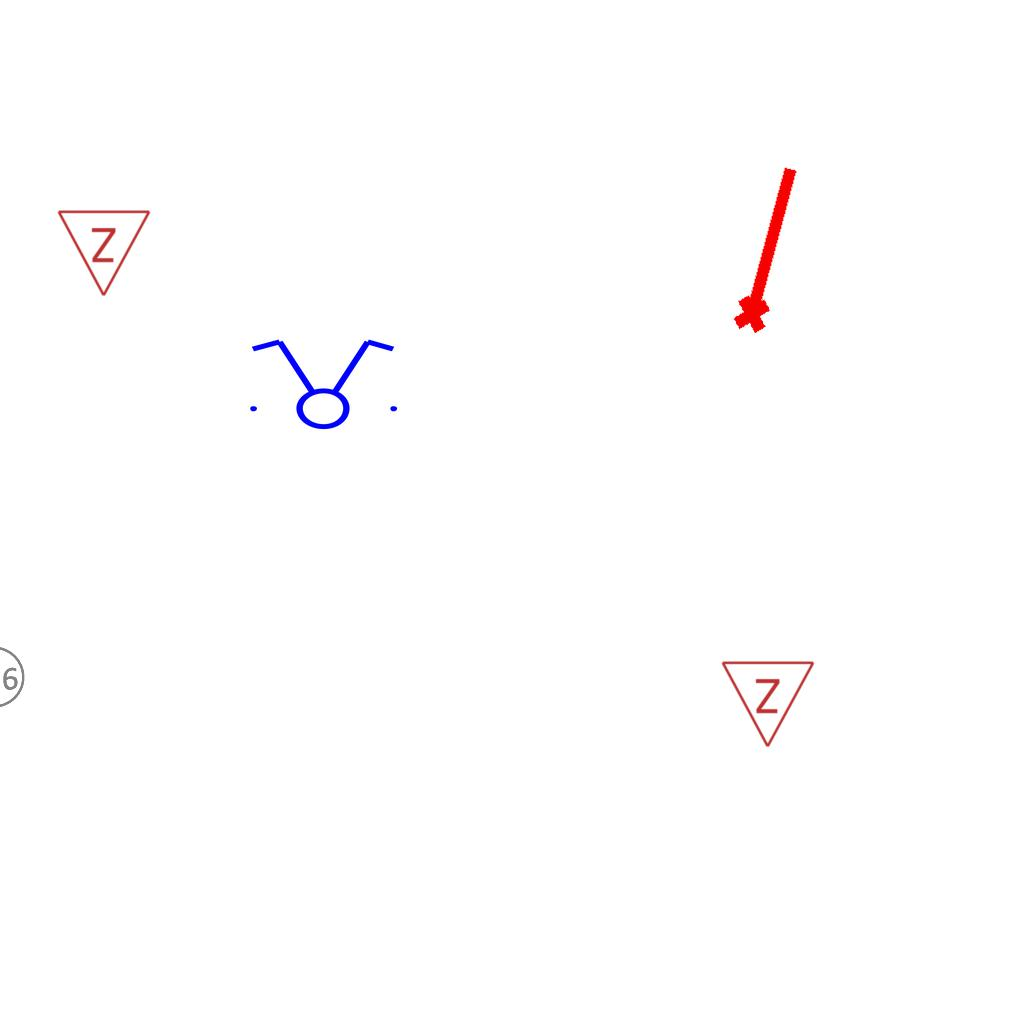ASR_Ansaugoeffnung: (722, 157, 812, 339)
Serienschalter: (238, 335, 406, 431)
Zimmersignalleuchte: (56, 203, 154, 303), (720, 654, 818, 754)
